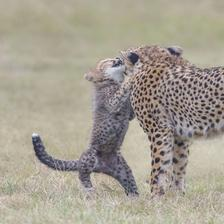Cheetah: (32, 53, 144, 202), (121, 42, 224, 201)
